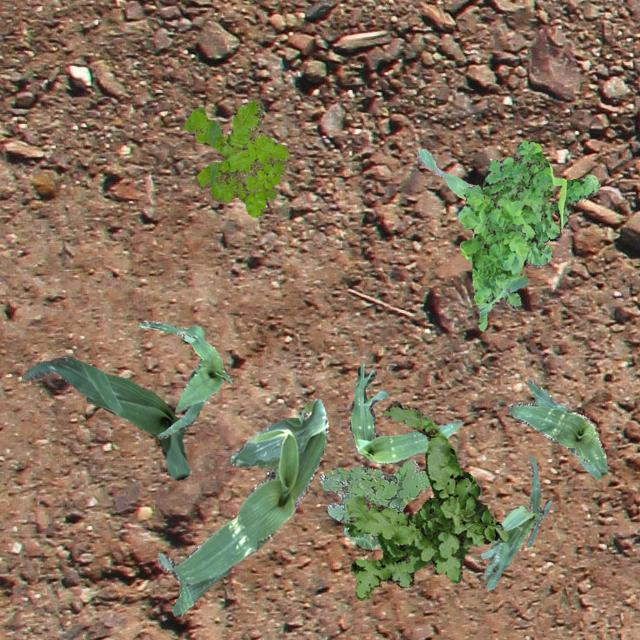crop: (156, 398, 328, 616), (22, 356, 188, 479), (138, 320, 232, 438), (350, 364, 462, 462), (506, 378, 606, 478), (480, 456, 550, 588), (416, 148, 474, 198), (341, 525, 381, 549)
weed: (342, 400, 507, 600), (456, 140, 598, 330), (182, 98, 288, 216), (318, 458, 430, 522)
